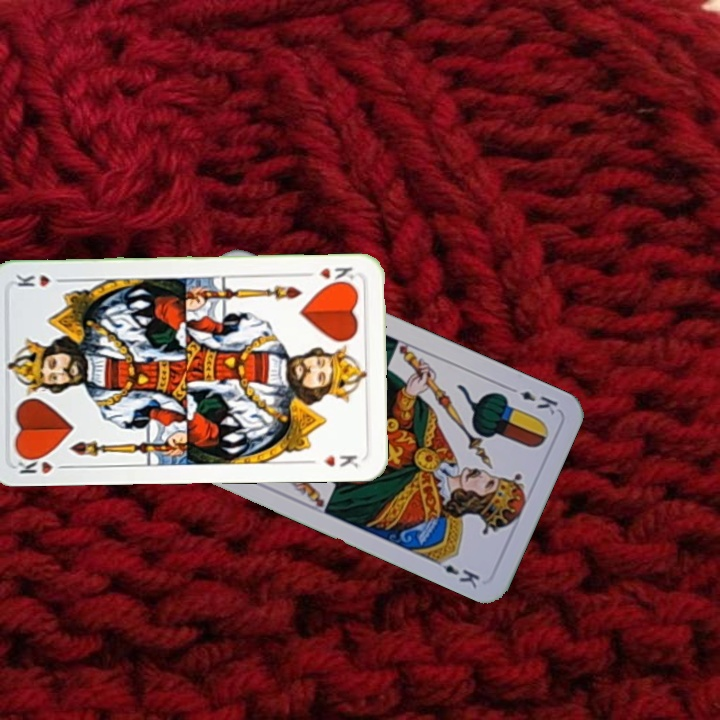EK: (503, 382, 561, 418)
HK: (13, 450, 72, 477), (300, 263, 357, 288)
